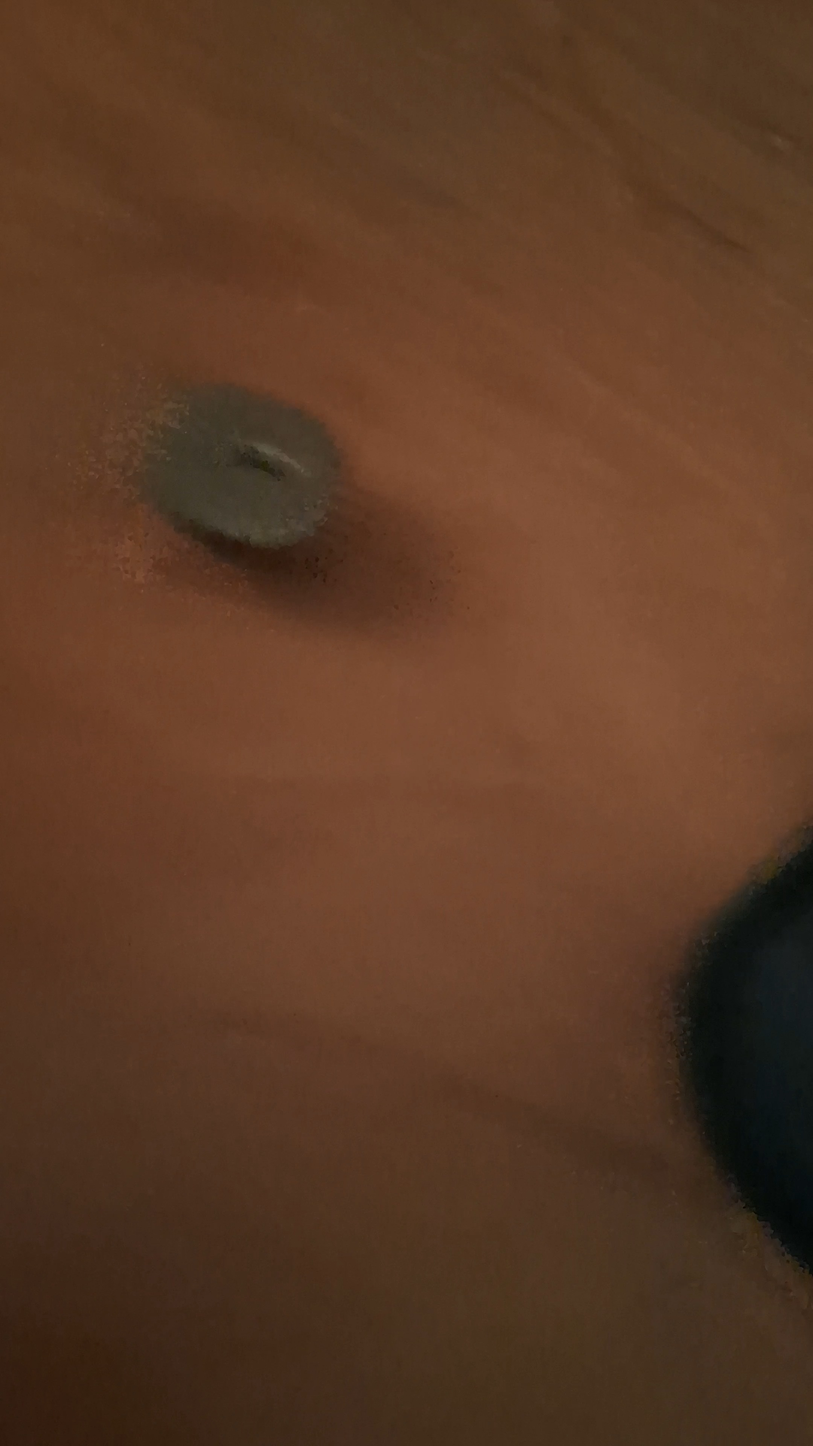spur gear: (139, 384, 343, 552)
